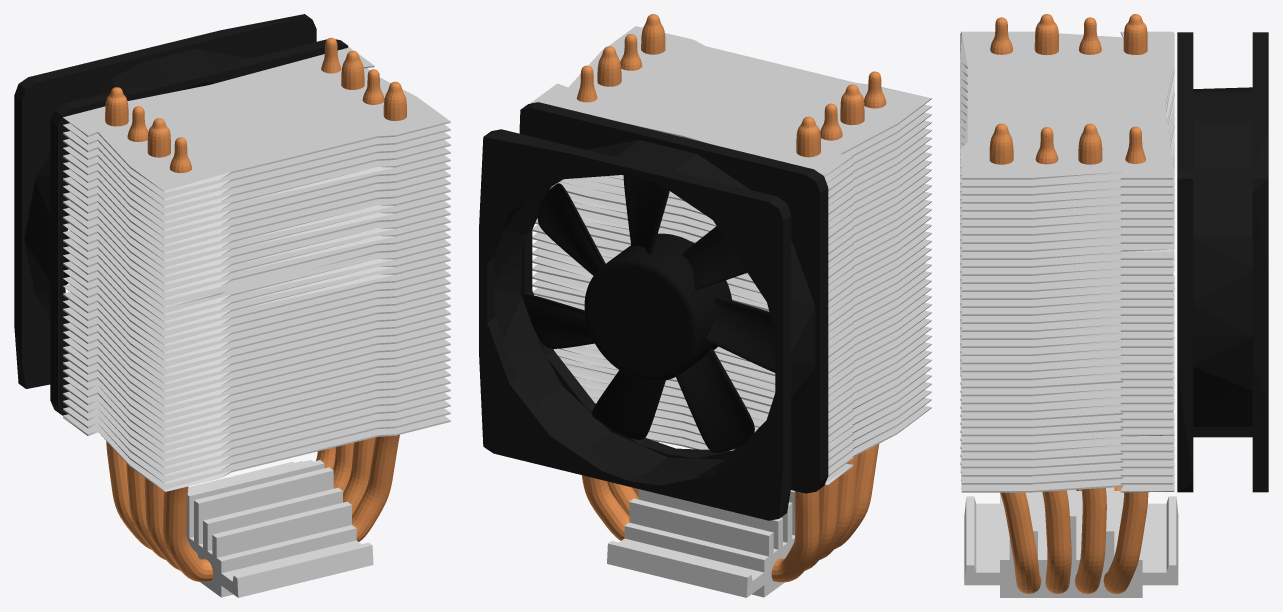
Rendered from cooler_air.glb.
The picture shows the model from 3 angles, left to right: view 1: azimuth 30°, elevation 25°; view 2: azimuth 150°, elevation 25°; view 3: azimuth 270°, elevation 25°; orthographic projection. The views are drawn at different scales.
Parts seen in each view (by area): view 1: Object_4, Object_6, Object_5, Object_3; view 2: Object_6, Object_4, Object_2, Object_3, Object_5; view 3: Object_4, Object_6, Object_3, Object_5.
Boxes of the visible parts, <box> form: Object_4: <box>63,47,450,491</box>; Object_6: <box>14,14,348,415</box>; Object_5: <box>186,460,373,597</box>; Object_3: <box>105,37,406,581</box>; Object_6: <box>479,102,828,520</box>; Object_4: <box>531,26,931,485</box>; Object_2: <box>523,174,775,452</box>; Object_3: <box>576,14,886,582</box>; Object_5: <box>607,489,794,597</box>; Object_4: <box>960,31,1174,492</box>; Object_6: <box>1177,32,1268,492</box>; Object_3: <box>989,14,1148,593</box>; Object_5: <box>964,487,1178,597</box>.
Size of the model in its own units: 0.1038 by 0.159 by 0.0899.
